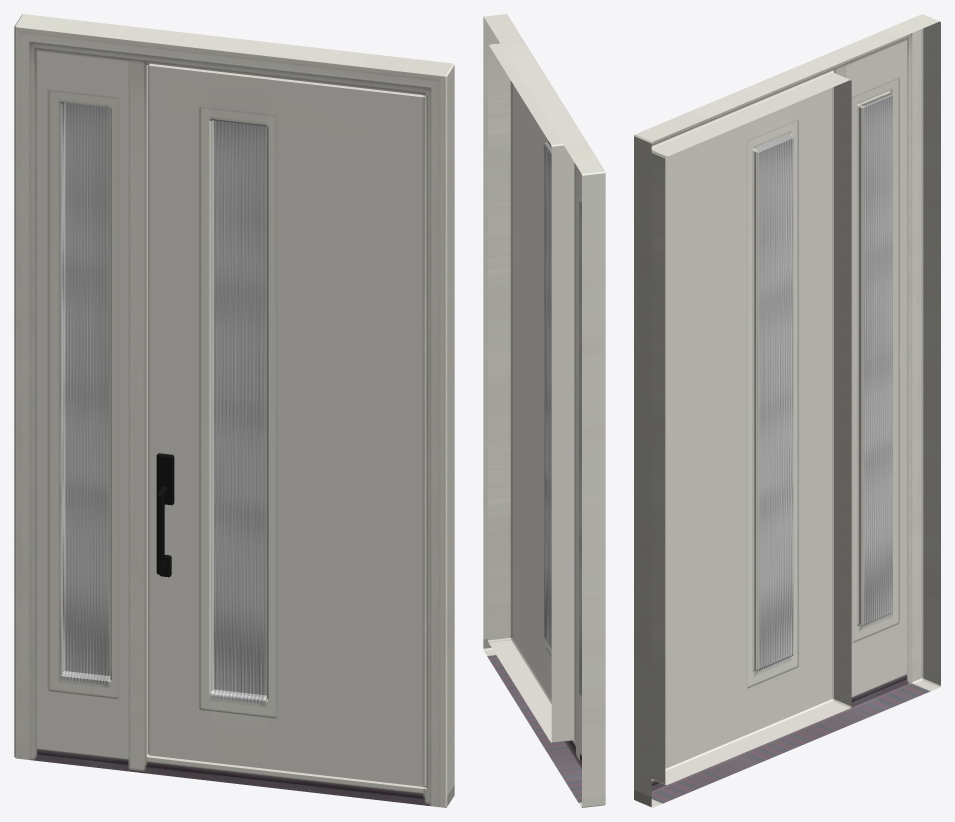
File: door3.fbx
3 views of the same model, side by side, from view 1: azimuth 30°, elevation 25°; view 2: azimuth 150°, elevation 25°; view 3: azimuth 270°, elevation 25° (orthographic). The views are drawn at different scales.
Parts seen in each view (by area): view 1: DOOR_3, FRAME_3; view 2: FRAME_3, DOOR_3; view 3: DOOR_3, FRAME_3.
Part boxes in pixels (left/top/right/bottom): DOOR_3: left=148, top=64, right=426, bottom=786; FRAME_3: left=14, top=14, right=454, bottom=807; FRAME_3: left=483, top=14, right=605, bottom=807; DOOR_3: left=504, top=80, right=551, bottom=716; DOOR_3: left=651, top=72, right=839, bottom=779; FRAME_3: left=634, top=14, right=940, bottom=807.
Bounding box in the file's own units: 0.00808 × 0.0195 × 0.00814.
